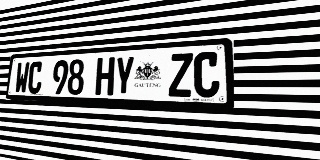8: (67, 59, 85, 95)
9: (52, 60, 69, 94)
C: (193, 51, 220, 98), (27, 61, 43, 94)
H: (95, 57, 115, 95)
W: (14, 62, 30, 94)
Y: (114, 56, 135, 96)
Z: (168, 53, 193, 97)
